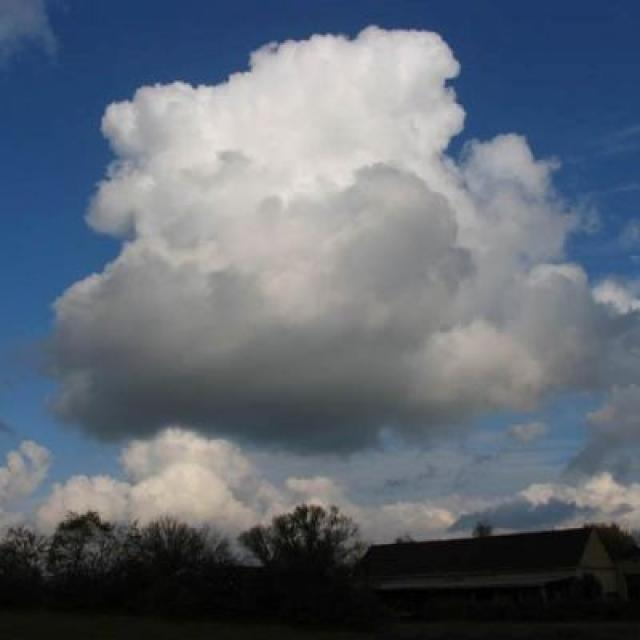Cu: (28, 15, 594, 456)
